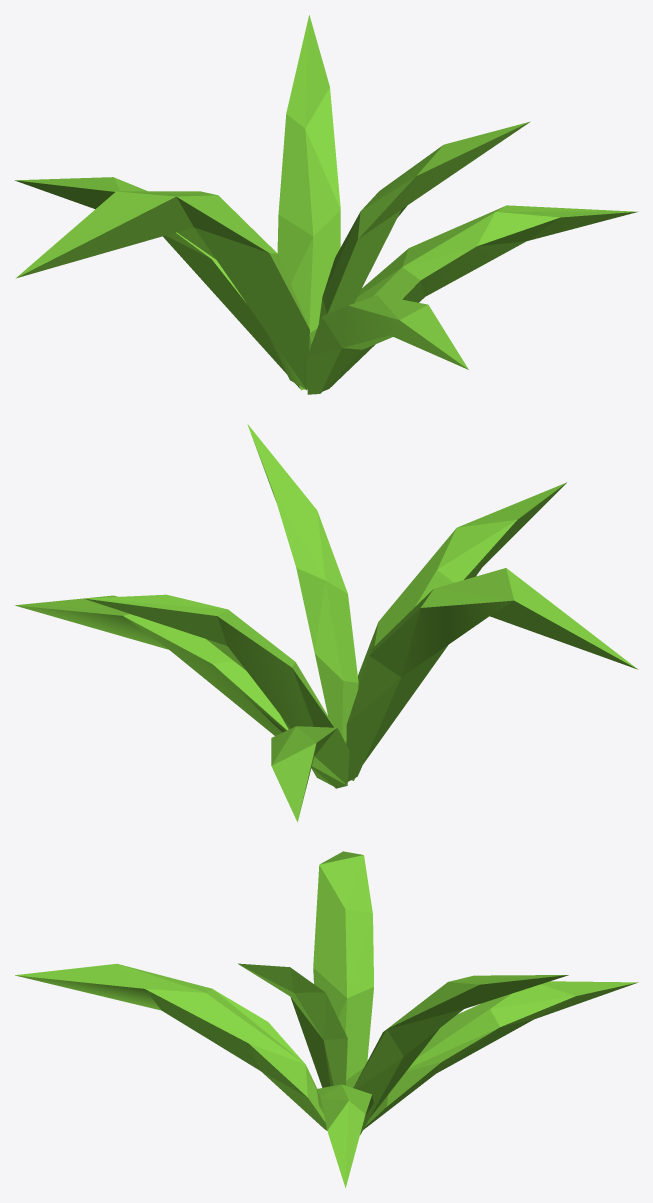
The model's file is Grass01.fbx.
3 views of the same model, one above another, from view 1: azimuth 30°, elevation 25°; view 2: azimuth 150°, elevation 25°; view 3: azimuth 270°, elevation 25° (orthographic). The views are drawn at different scales.
Visible parts, largest first — view 1: Grass01; view 2: Grass01; view 3: Grass01.
Boxes of the visible parts, box(x1,y1,x2,y2) form: Grass01: box(15, 15, 638, 394); Grass01: box(15, 424, 638, 822); Grass01: box(15, 851, 638, 1187).
Size of the model in its own units: 78.07 by 33.27 by 78.51.
